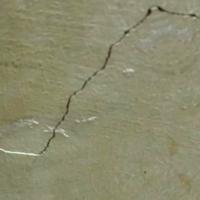crack: (0, 3, 199, 165)
